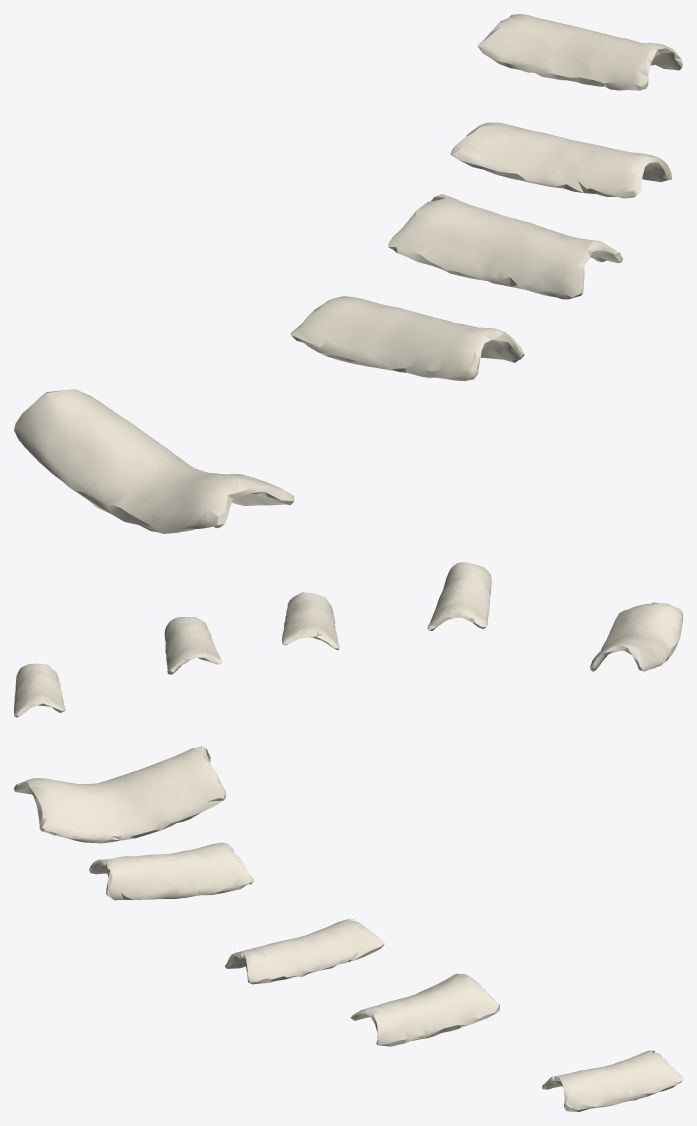
Rendered from fma44557_mm1386.glb.
3 renders of one model, top to bottom at view 1: azimuth 30°, elevation 25°; view 2: azimuth 150°, elevation 25°; view 3: azimuth 270°, elevation 25°, orthographic. The views are drawn at different scales.
Parts seen in each view (by area): view 1: FMA44557_MM1386; view 2: FMA44557_MM1386; view 3: FMA44557_MM1386.
Part boxes in pixels (x1,y1,x2,y2): FMA44557_MM1386: (14,14,682,533); FMA44557_MM1386: (14,562,682,717); FMA44557_MM1386: (14,746,682,1111).
Size of the model in its own units: 0.0614 by 0.00705 by 0.0551.
